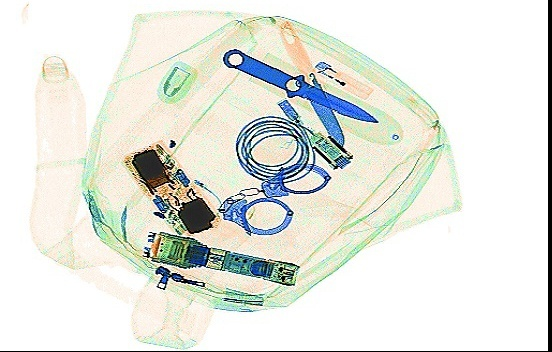handcuffs: (215, 160, 333, 237)
knife: (219, 46, 381, 126), (276, 18, 346, 148)
lighter: (312, 58, 374, 101)
